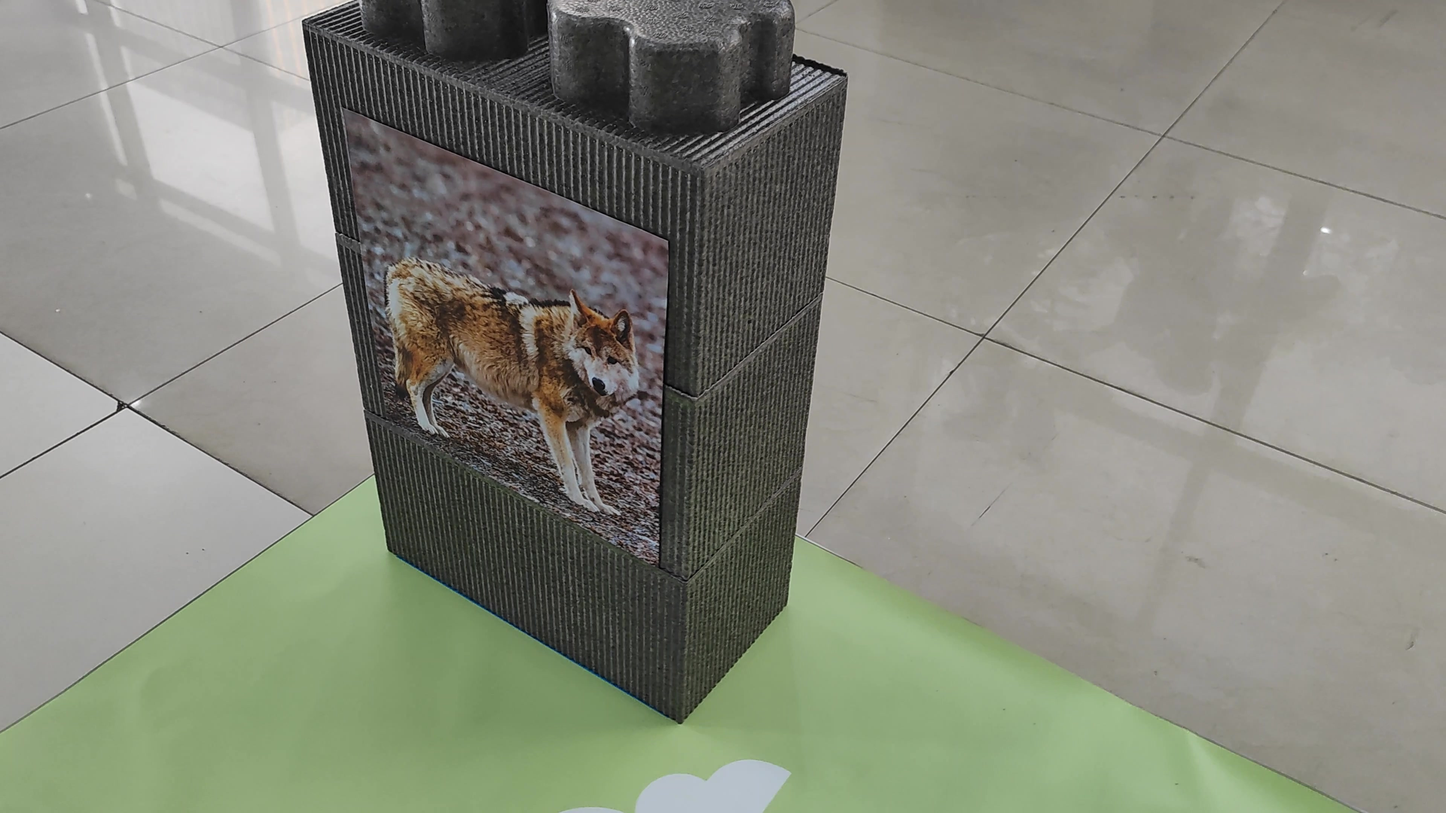wolf: (348, 113, 657, 562)
